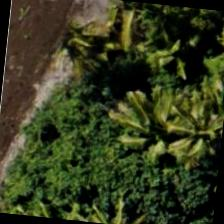Kelapa_Sawit: (100, 64, 200, 163), (28, 0, 128, 99), (55, 0, 155, 92), (148, 75, 223, 173)
